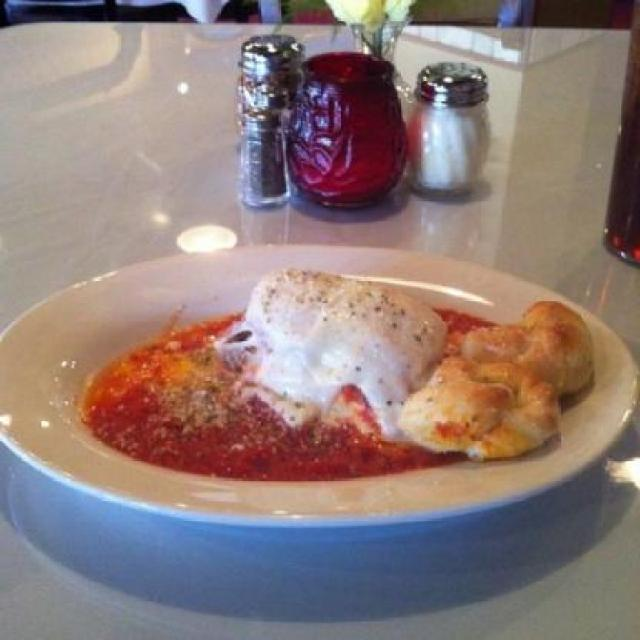Lasagna: (168, 246, 428, 474)
